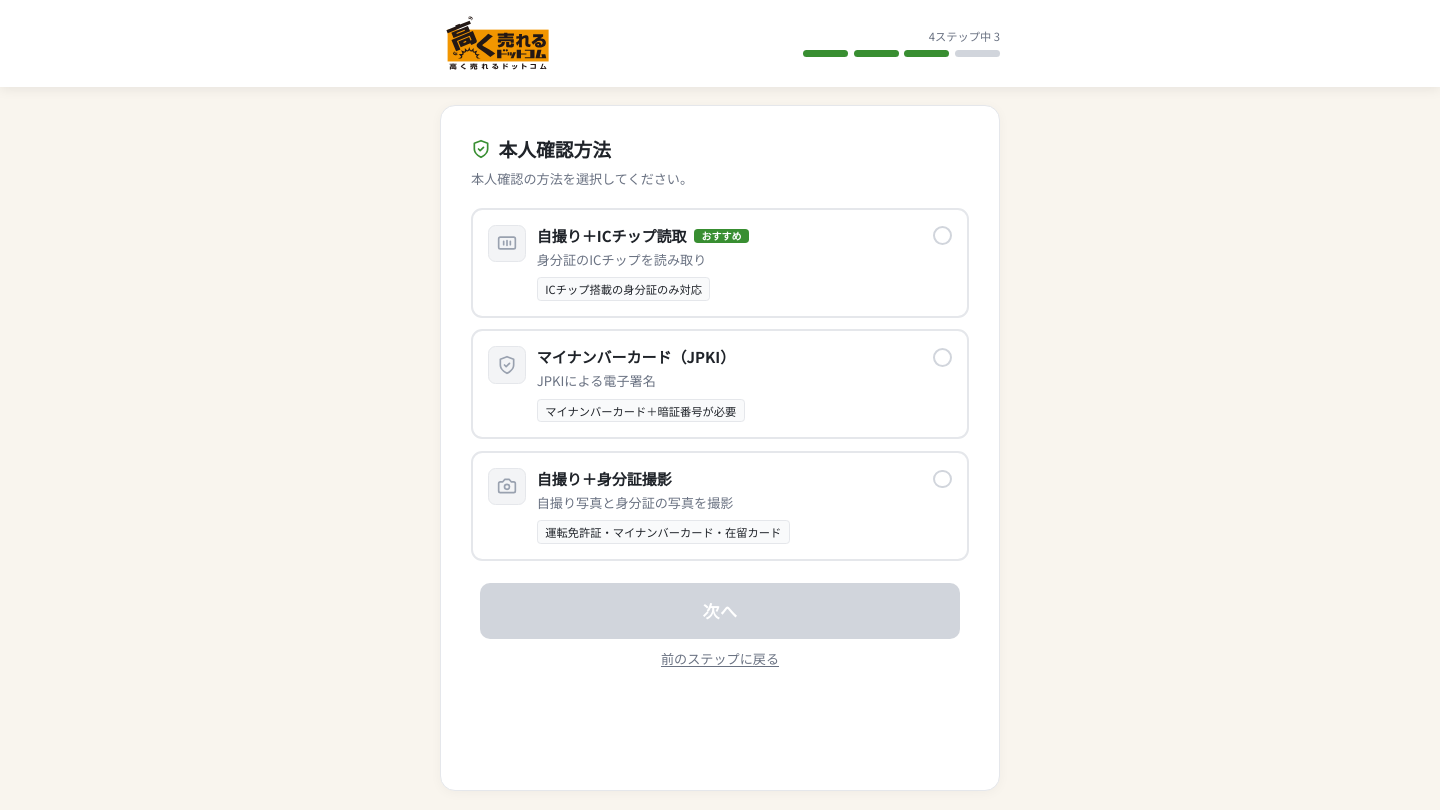
Step3IdentityVerification › shows validation hint when 次へ clicked without selection
Click the button "次へ": (720, 611) [480, 583, 960, 639]
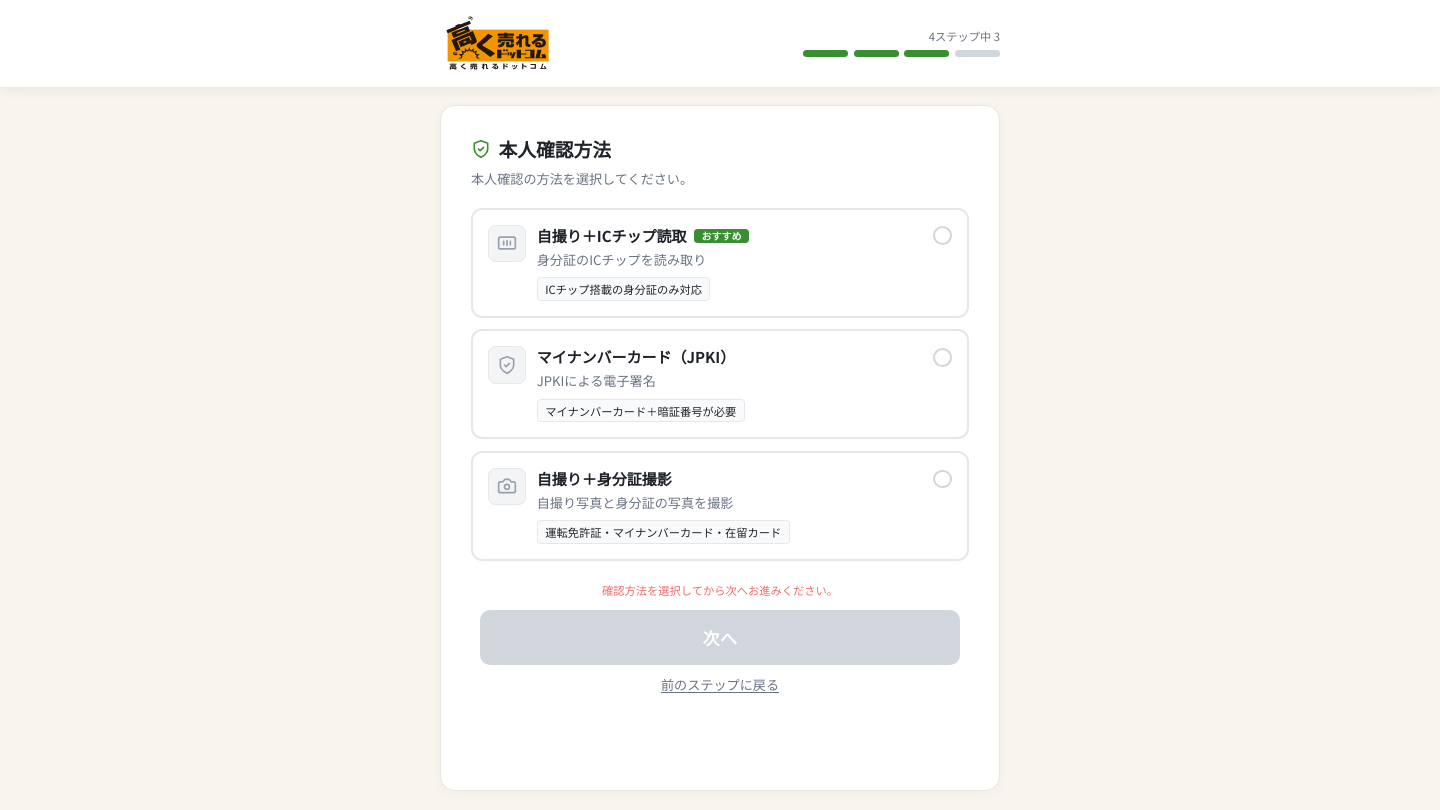
Check: the text "確認方法を選択してから次へお進みください。" is shown, box [602, 583, 838, 598]
